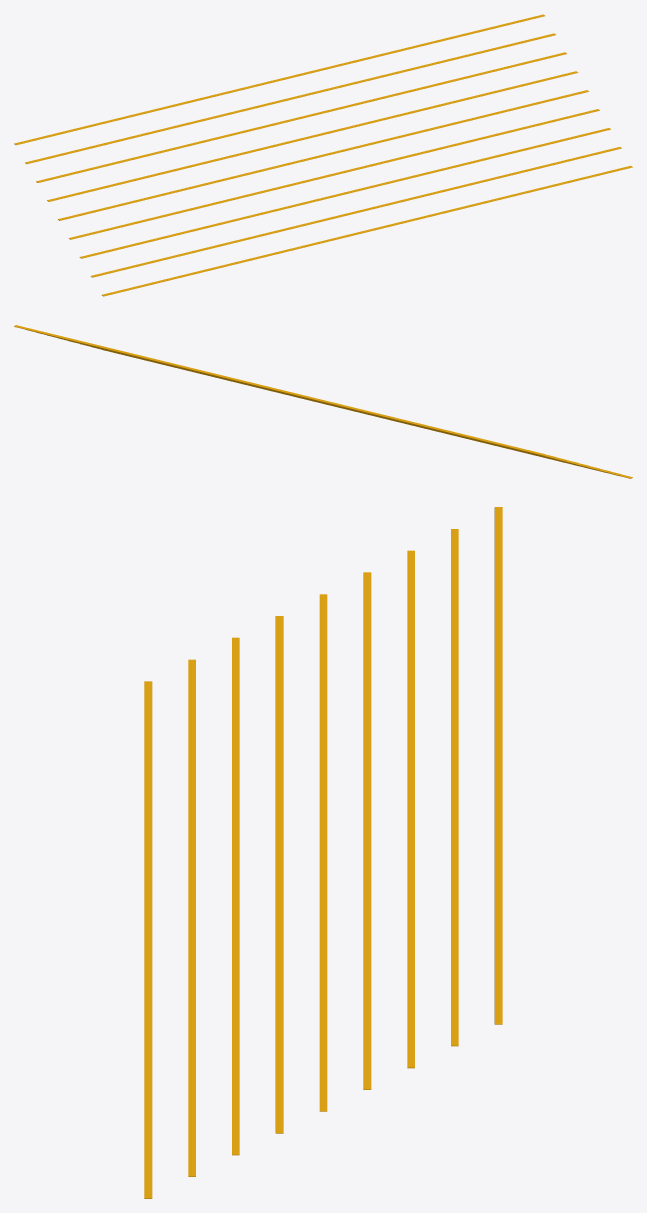
File: gteki_ik_stair_n9_r169_t308_w8615_nosing.glb
3 views of the same model, one above another, from view 1: azimuth 30°, elevation 25°; view 2: azimuth 150°, elevation 25°; view 3: azimuth 270°, elevation 25° (orthographic). The views are drawn at different scales.
Visible parts, largest first — view 1: VIS_nosings; view 2: VIS_nosings; view 3: VIS_nosings.
Part boxes in pixels (x1,y1,x2,y2): VIS_nosings: (14, 14, 632, 296); VIS_nosings: (14, 325, 632, 478); VIS_nosings: (144, 507, 502, 1198).
Bounding box in the file's own units: 8.6 × 1.36 × 2.52.
